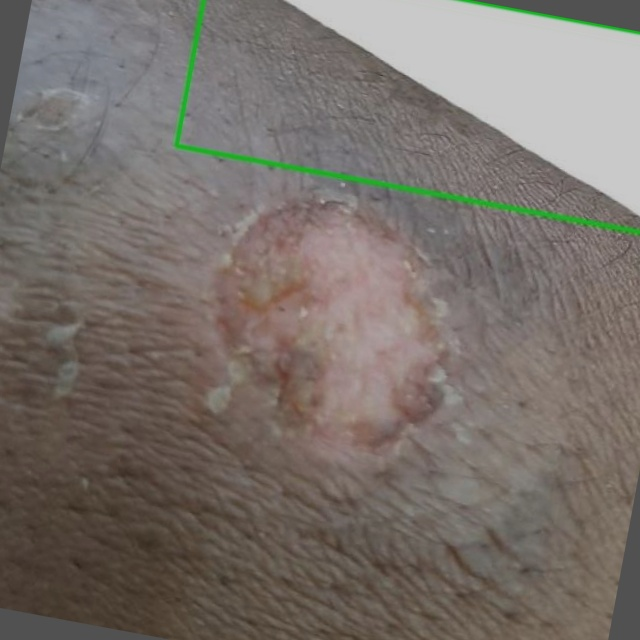Contact Dermatitis: (176, 0, 639, 231)
